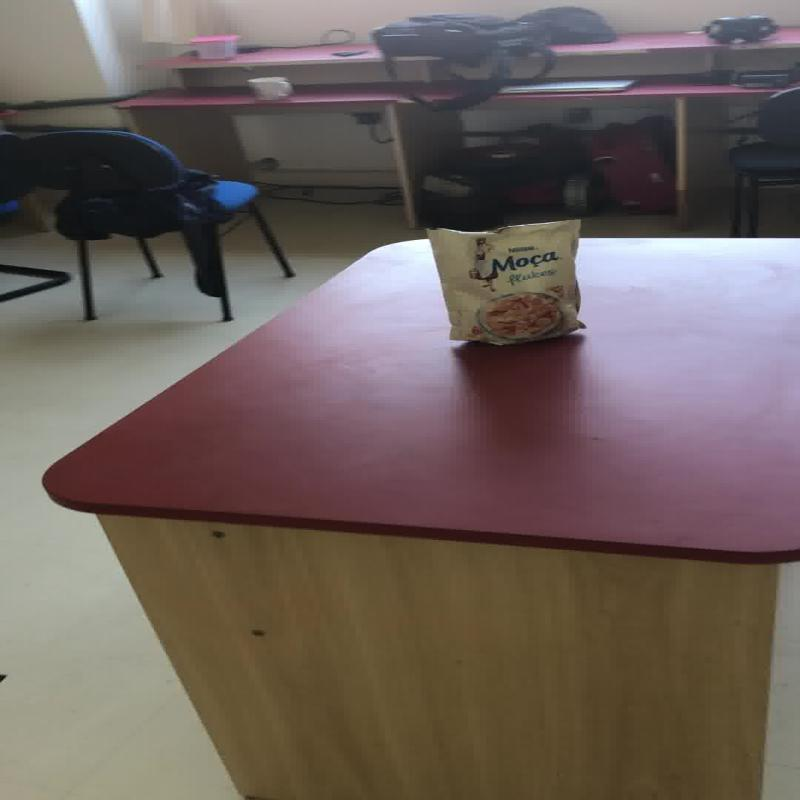corn flakes: (424, 217, 585, 344), (474, 291, 560, 338)
